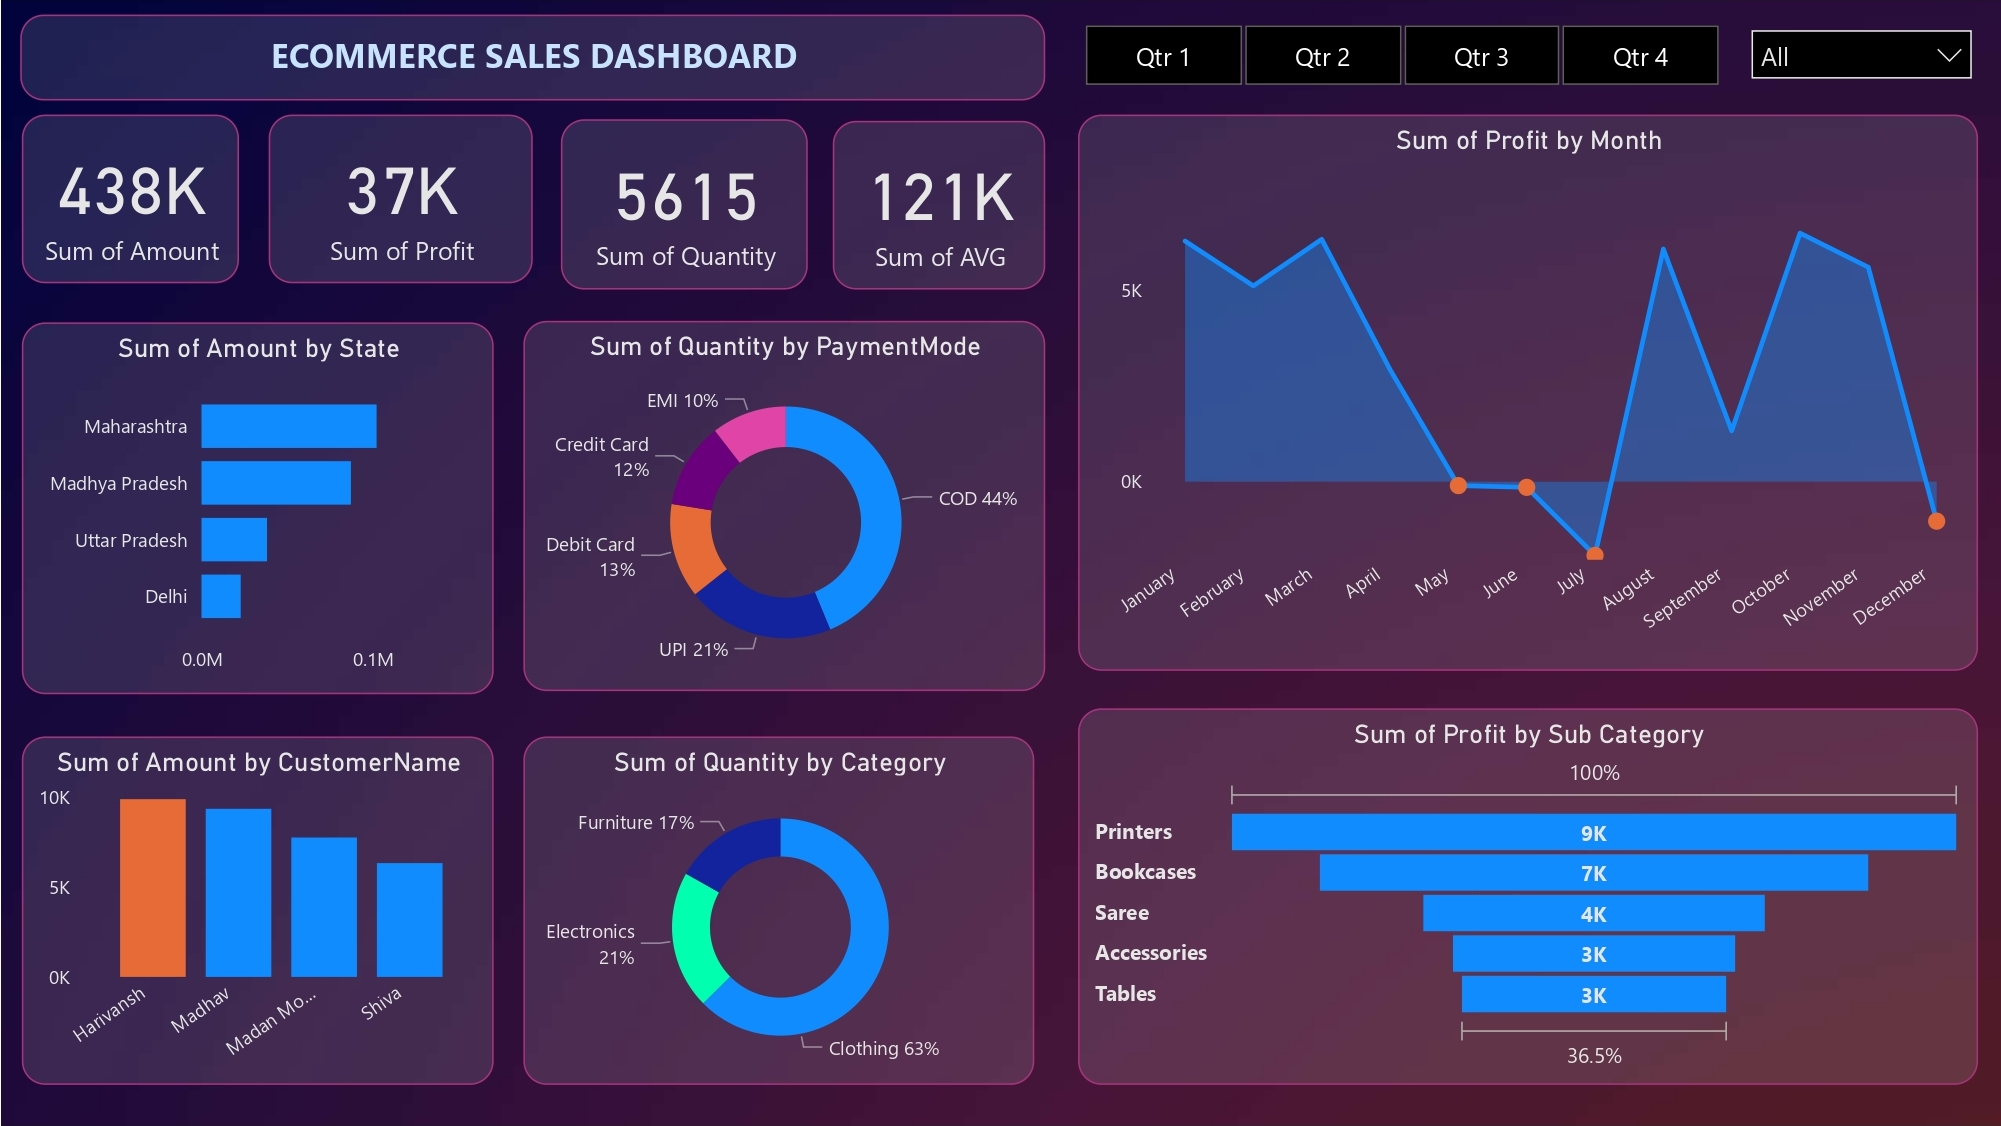

What the dashboard file says about the page in this screenshot:
{"tool":"powerbi","page":{"name":"Page 1","canvas":[1280,720],"ordinal":0},"visuals":[{"type":"areaChart","fields":{"Category":["Orders.Order Date.Variation.Date Hierarchy.Month"],"Y":["Details.Profit"]},"box":[688.7,72.6,575.8,356.5],"z":0},{"type":"funnel","title":"Sum of Profit by Sub Category","fields":{"Category":["Details.Sub-Category"],"Y":["Details.Profit"]},"box":[688.7,453.2,575.8,240.3],"z":1000},{"type":"donutChart","fields":{"Category":["Details.Category"],"Y":["Details.Quantity"]},"box":[333.9,471,327.4,222.6],"z":2000},{"type":"donutChart","fields":{"Category":["Details.PaymentMode"],"Y":["Details.Quantity"]},"box":[333.9,204.8,333.9,237.1],"z":3000},{"type":"card","fields":{"Values":["Details.Amount"]},"box":[12.9,72.6,138.7,108.1],"z":4000},{"type":"card","fields":{"Values":["Details.Profit"]},"box":[171,72.6,169.4,108.1],"z":5000},{"type":"card","fields":{"Values":["Details.Quantity"]},"box":[358.1,75.8,158.1,109.7],"z":6000},{"type":"card","fields":{"Values":["Details.AVG"]},"box":[532.3,77.4,135.5,108.1],"z":7000},{"type":"barChart","fields":{"Category":["Orders.State"],"Y":["Details.Amount"]},"box":[12.9,206.5,301.6,237.1],"z":8000},{"type":"columnChart","fields":{"Category":["Orders.CustomerName"],"Y":["Details.Amount"]},"box":[12.9,471,301.6,222.6],"z":9000},{"type":"textbox","box":[12.5,9.4,656,54.7],"z":10000},{"type":"slicer","fields":{"Values":["Orders.Order Date.Variation.Date Hierarchy.Quarter"]},"box":[668.5,9.4,454.5,51.5],"z":11000},{"type":"slicer","fields":{"Values":["Orders.State"]},"box":[1110.5,9.4,160.9,51.5],"z":12000}]}

Visuals, with their boxes in screenshot pixels (x1, y1, x2, y2), scaled from the page's 1280x720 canvas onto the 2001x1126 screenshot:
areaChart - Orders.Order Date.Variation.Date Hierarchy.Month x Details.Profit: 1077,114,1977,671
"Sum of Profit by Sub Category" funnel: 1077,709,1977,1085
donutChart - Details.Category x Details.Quantity: 522,737,1034,1085
donutChart - Details.PaymentMode x Details.Quantity: 522,320,1044,691
card - Details.Amount: 20,114,237,283
card - Details.Profit: 267,114,532,283
card - Details.Quantity: 560,119,807,290
card - Details.AVG: 832,121,1044,290
barChart - Orders.State x Details.Amount: 20,323,492,694
columnChart - Orders.CustomerName x Details.Amount: 20,737,492,1085
textbox: 20,15,1045,100
slicer - Orders.Order Date.Variation.Date Hierarchy.Quarter: 1045,15,1756,95
slicer - Orders.State: 1736,15,1988,95
